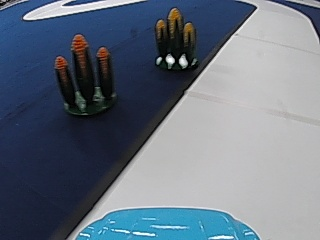corn: (54, 40, 117, 118), (153, 5, 199, 71)
